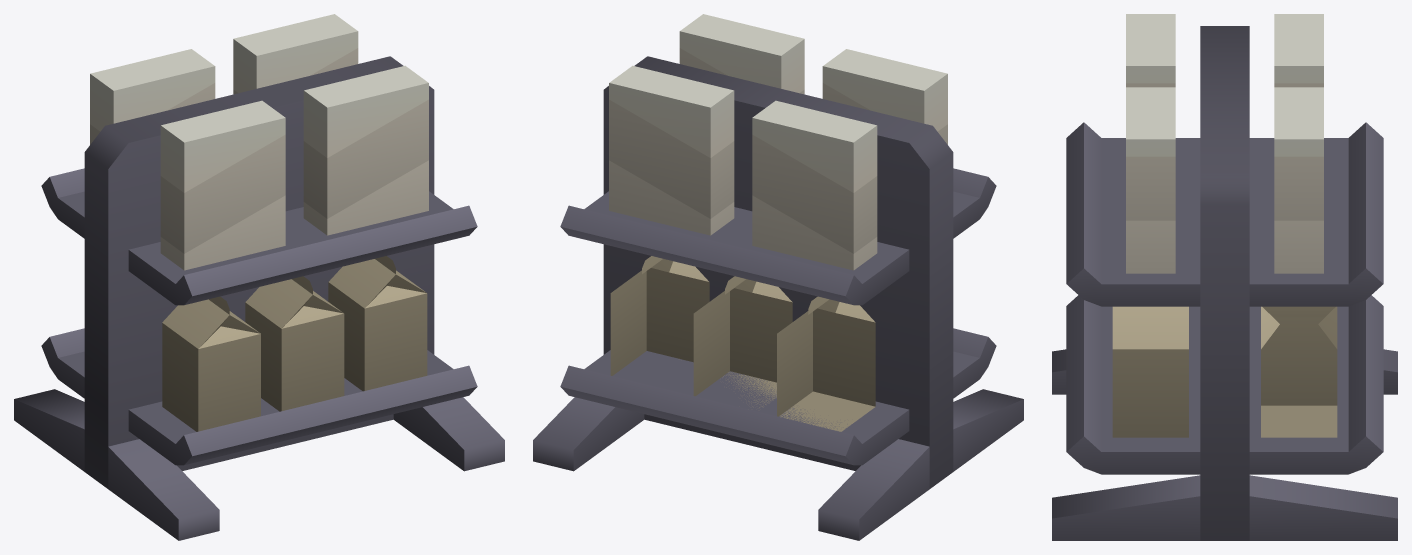
The model's file is shelf.glb.
The picture shows the model from 3 angles, left to right: view 1: azimuth 30°, elevation 25°; view 2: azimuth 150°, elevation 25°; view 3: azimuth 270°, elevation 25°; orthographic projection. The views are drawn at different scales.
Parts seen in each view (by area): view 1: shelf; view 2: shelf; view 3: shelf.
Boxes of the visible parts, x1,y1,x2,y2 form: shelf: [14, 14, 504, 540]; shelf: [533, 14, 1023, 540]; shelf: [1052, 14, 1397, 540].
Size of the model in its own units: 0.8 by 0.85 by 0.7.
